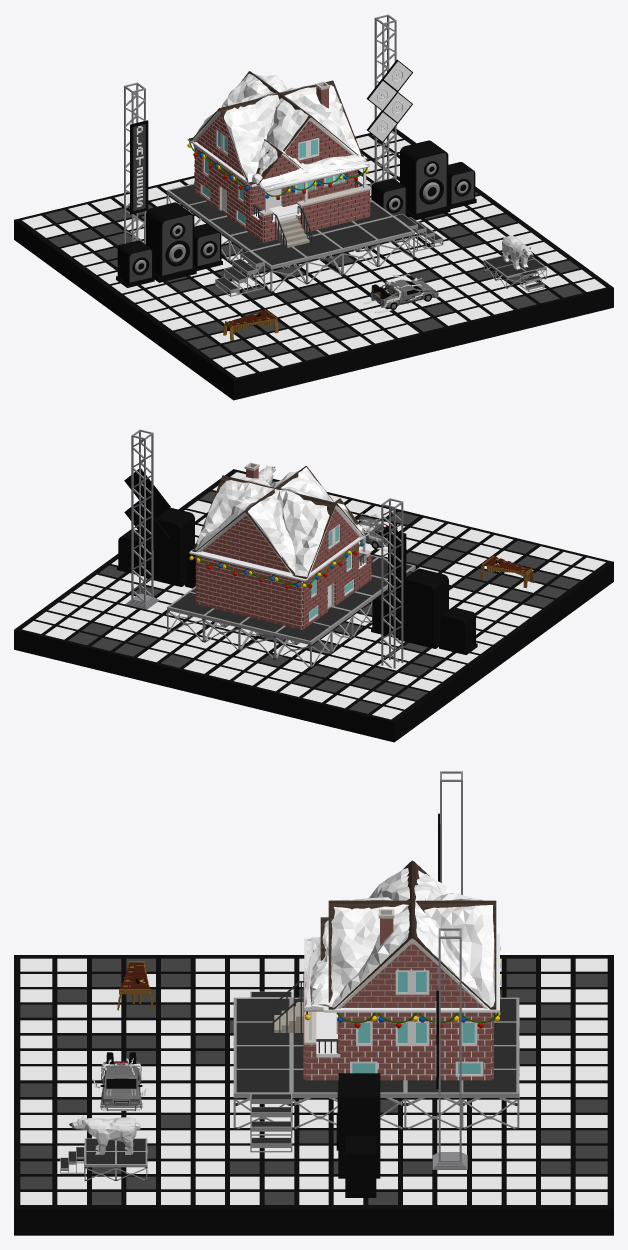
3 renders of one model, top to bottom at view 1: azimuth 30°, elevation 25°; view 2: azimuth 150°, elevation 25°; view 3: azimuth 270°, elevation 25°, orthographic. The views are drawn at different scales.
Visible parts, largest first — view 1: Cube.008, Cube.1419, VEHICLES_DELOREAN, OBJRANDOM_MARIMBA, ANIMAL_OSO_POLAR; view 2: Cube.008, Cube.1419, OBJRANDOM_MARIMBA, VEHICLES_DELOREAN; view 3: Cube.008, Cube.1419, VEHICLES_DELOREAN, ANIMAL_OSO_POLAR, OBJRANDOM_MARIMBA.
Part boxes in pixels (x1,y1,x2,y2): Cube.008: (14, 14, 613, 400); Cube.1419: (187, 71, 371, 248); VEHICLES_DELOREAN: (358, 274, 438, 313); OBJRANDOM_MARIMBA: (223, 309, 278, 340); ANIMAL_OSO_POLAR: (502, 235, 533, 270); Cube.008: (14, 429, 613, 742); Cube.1419: (189, 462, 372, 629); OBJRANDOM_MARIMBA: (480, 555, 534, 588); VEHICLES_DELOREAN: (357, 513, 408, 551); Cube.008: (14, 771, 613, 1235); Cube.1419: (272, 860, 500, 1080); VEHICLES_DELOREAN: (92, 1052, 146, 1110); ANIMAL_OSO_POLAR: (69, 1115, 140, 1154); OBJRANDOM_MARIMBA: (117, 961, 153, 1010).
Size of the model in its own units: 4000 by 1995 by 4000.
48 materials, 2 textured.
